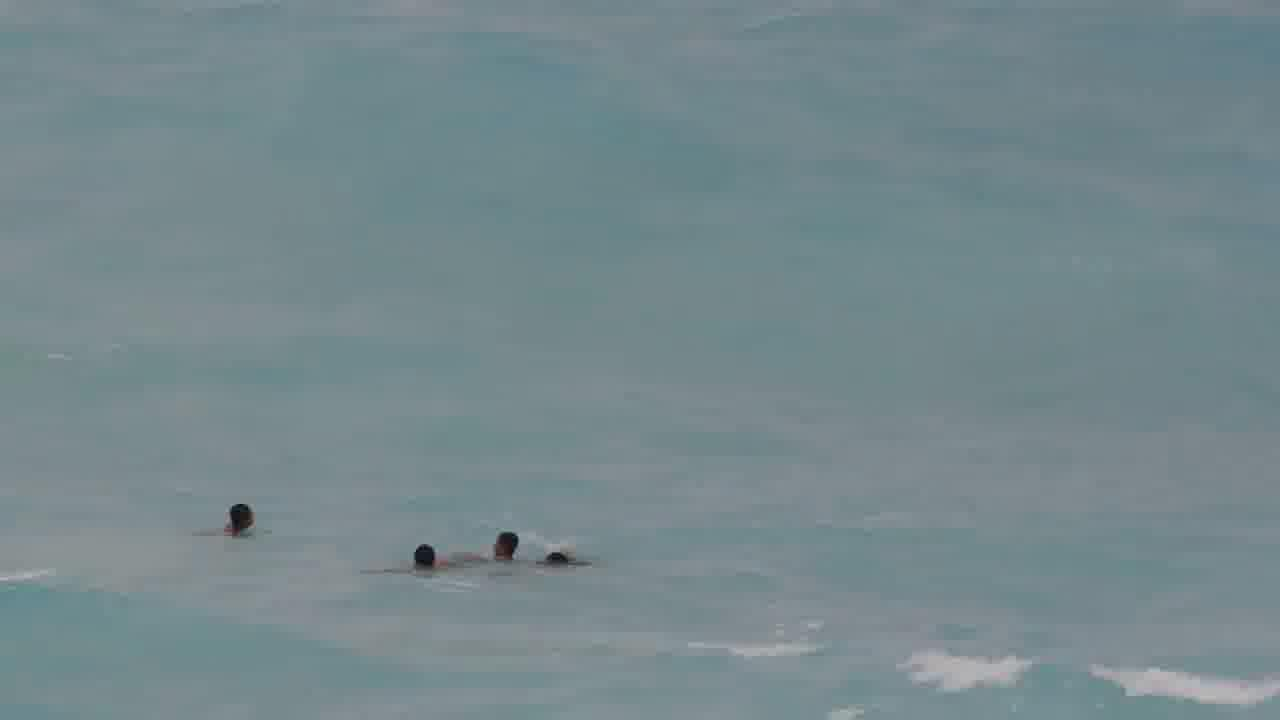human: (355, 535, 460, 569), (195, 497, 276, 541), (473, 521, 537, 561), (529, 544, 596, 573)
